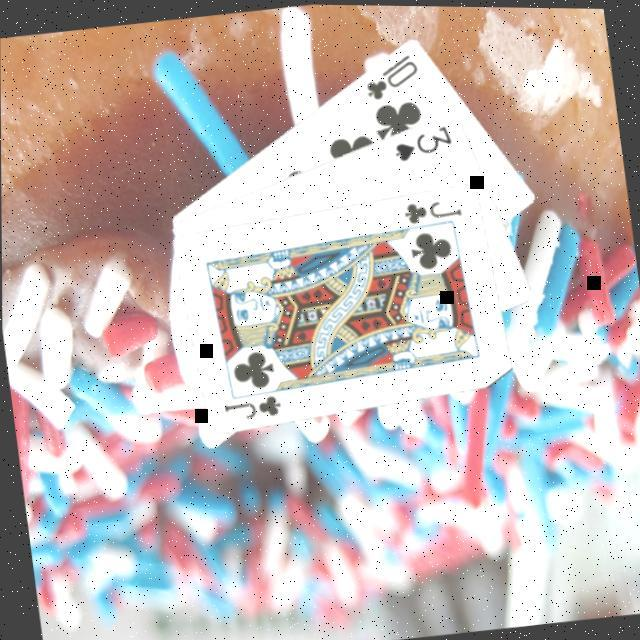10C: (360, 48, 426, 104)
3S: (390, 118, 458, 166)
JC: (400, 192, 467, 228), (220, 388, 285, 424)
